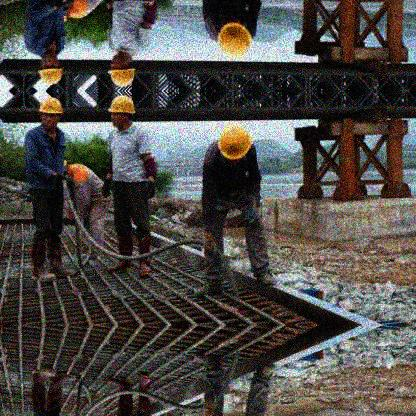helmet: (218, 122, 253, 166), (215, 17, 253, 56), (107, 51, 137, 87), (39, 95, 63, 138), (36, 50, 64, 85), (108, 96, 136, 130)
